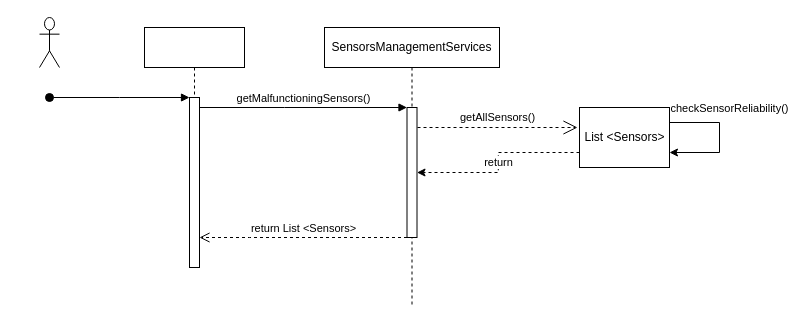
The diagram is 805 pixels wide and 325 high, and some of its shapes have lost their labels. The box of each missing label's shape, as (x1, y1, x2, y2) in pixels:
AgencyUser: (38, 16, 60, 68)
Interface agence: (144, 26, 244, 268)
